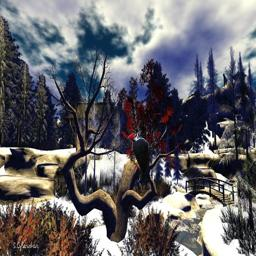Woodpecker: (127, 130, 156, 181)
